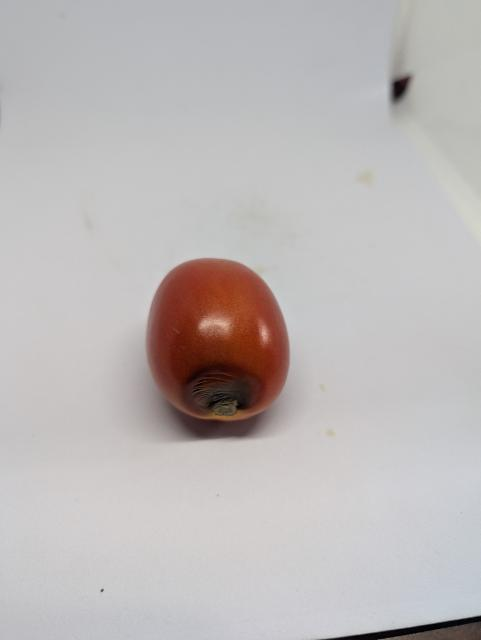defect: (144, 251, 294, 424)
